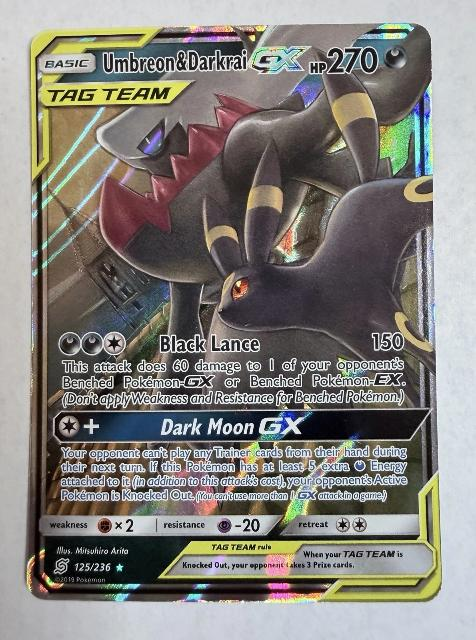Card: (20, 17, 448, 608)
Name: (96, 40, 314, 79)
